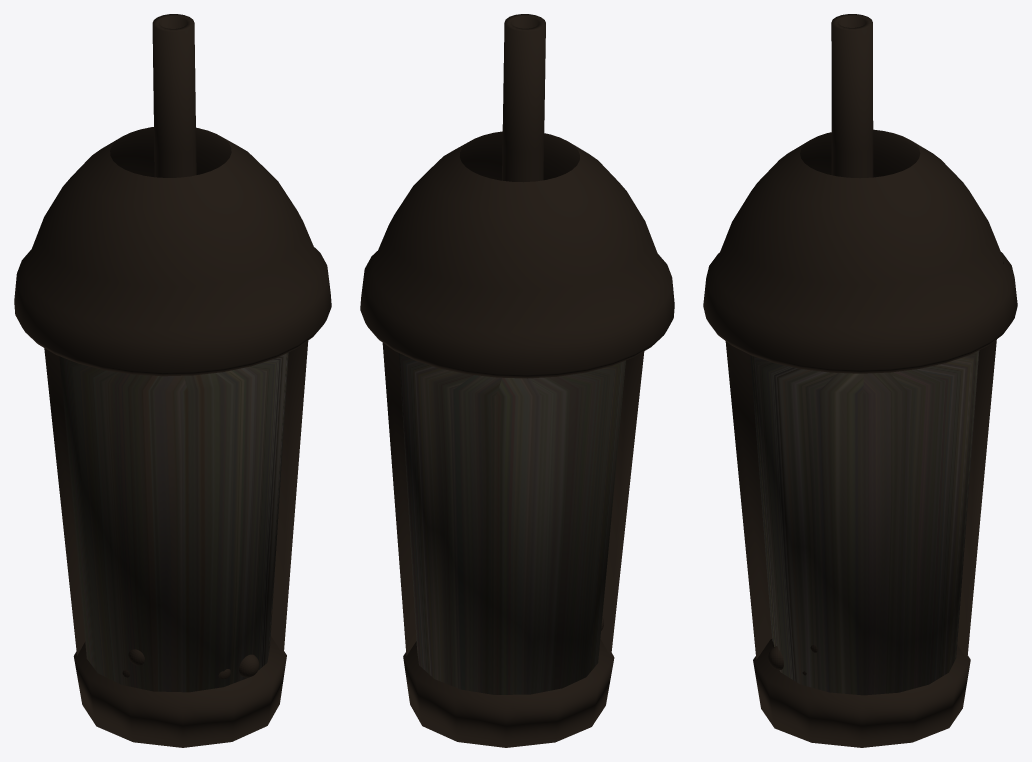
3 views of the same model, side by side, from view 1: azimuth 30°, elevation 25°; view 2: azimuth 150°, elevation 25°; view 3: azimuth 270°, elevation 25° (orthographic).
Visible parts, largest first — view 1: v_bile_flask.mdl.cleaner.materialmerger.gles; view 2: v_bile_flask.mdl.cleaner.materialmerger.gles; view 3: v_bile_flask.mdl.cleaner.materialmerger.gles.
Boxes of the visible parts, x1,y1,x2,y2 form: v_bile_flask.mdl.cleaner.materialmerger.gles: (14,14,331,747); v_bile_flask.mdl.cleaner.materialmerger.gles: (360,14,674,747); v_bile_flask.mdl.cleaner.materialmerger.gles: (703,14,1017,747).
Bounding box in the file's own units: 0.1444 × 0.3455 × 0.1445.
1 material, 1 textured.
